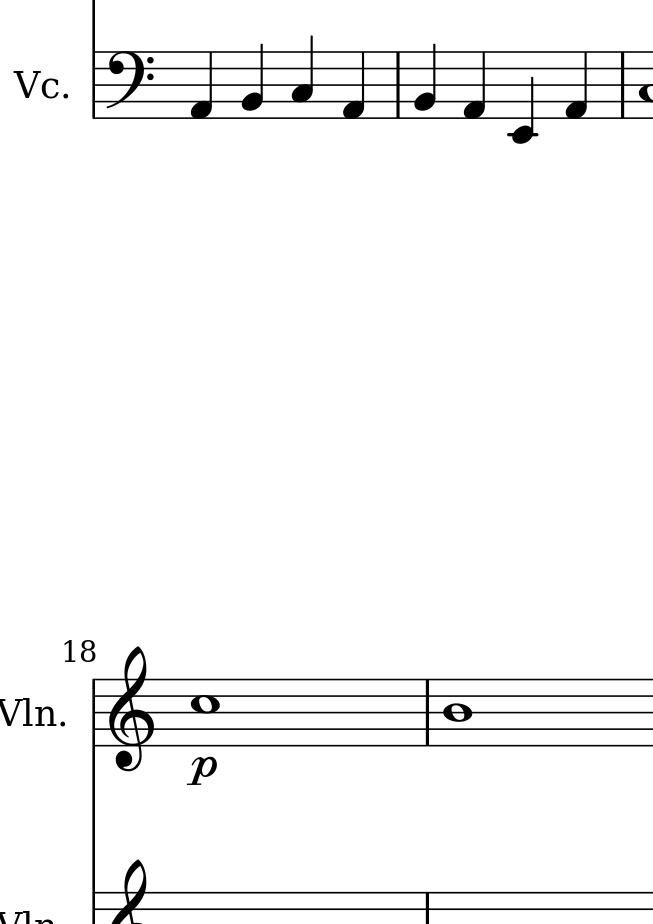1: (62, 638, 75, 665)
1_4: (440, 676, 474, 748)
1_5: (189, 676, 220, 747)
4_-2: (507, 49, 538, 146)
4_1: (461, 49, 488, 121), (188, 50, 215, 121), (563, 49, 590, 120), (341, 50, 366, 121)
4_2: (239, 42, 265, 120), (412, 42, 438, 120)
4_3: (290, 34, 315, 119)
8: (78, 637, 96, 665)
Fclef: (104, 49, 155, 121)
Gclef: (107, 645, 156, 772)
Single_barline: (87, 52, 102, 117), (420, 680, 435, 745), (88, 678, 102, 747), (616, 51, 630, 117), (391, 55, 405, 117)
Vc: (12, 69, 60, 100)
Vln: (1, 693, 58, 733)
p: (186, 755, 218, 788)
